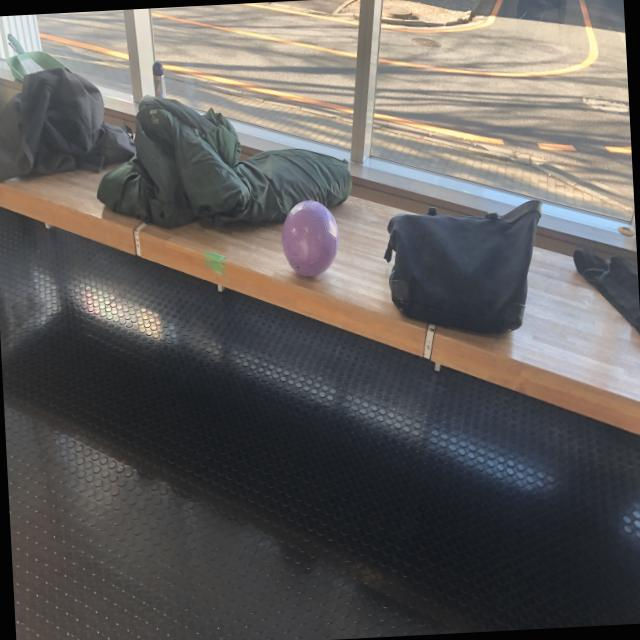purple_ball: (280, 198, 338, 276)
